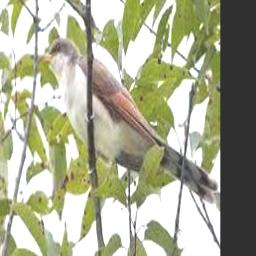Cuckoo: (34, 37, 217, 205)
